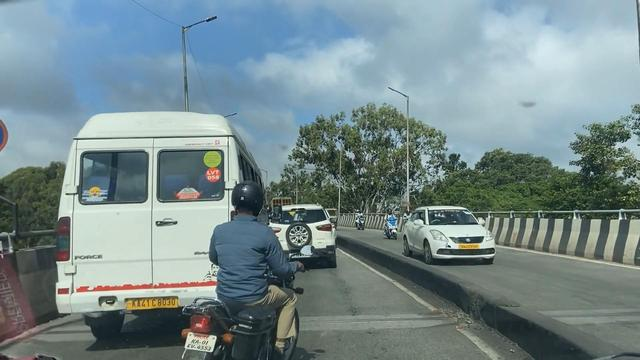LMV: (178, 186, 296, 360), (271, 208, 337, 270)
SpeedBump: (294, 310, 441, 333)
